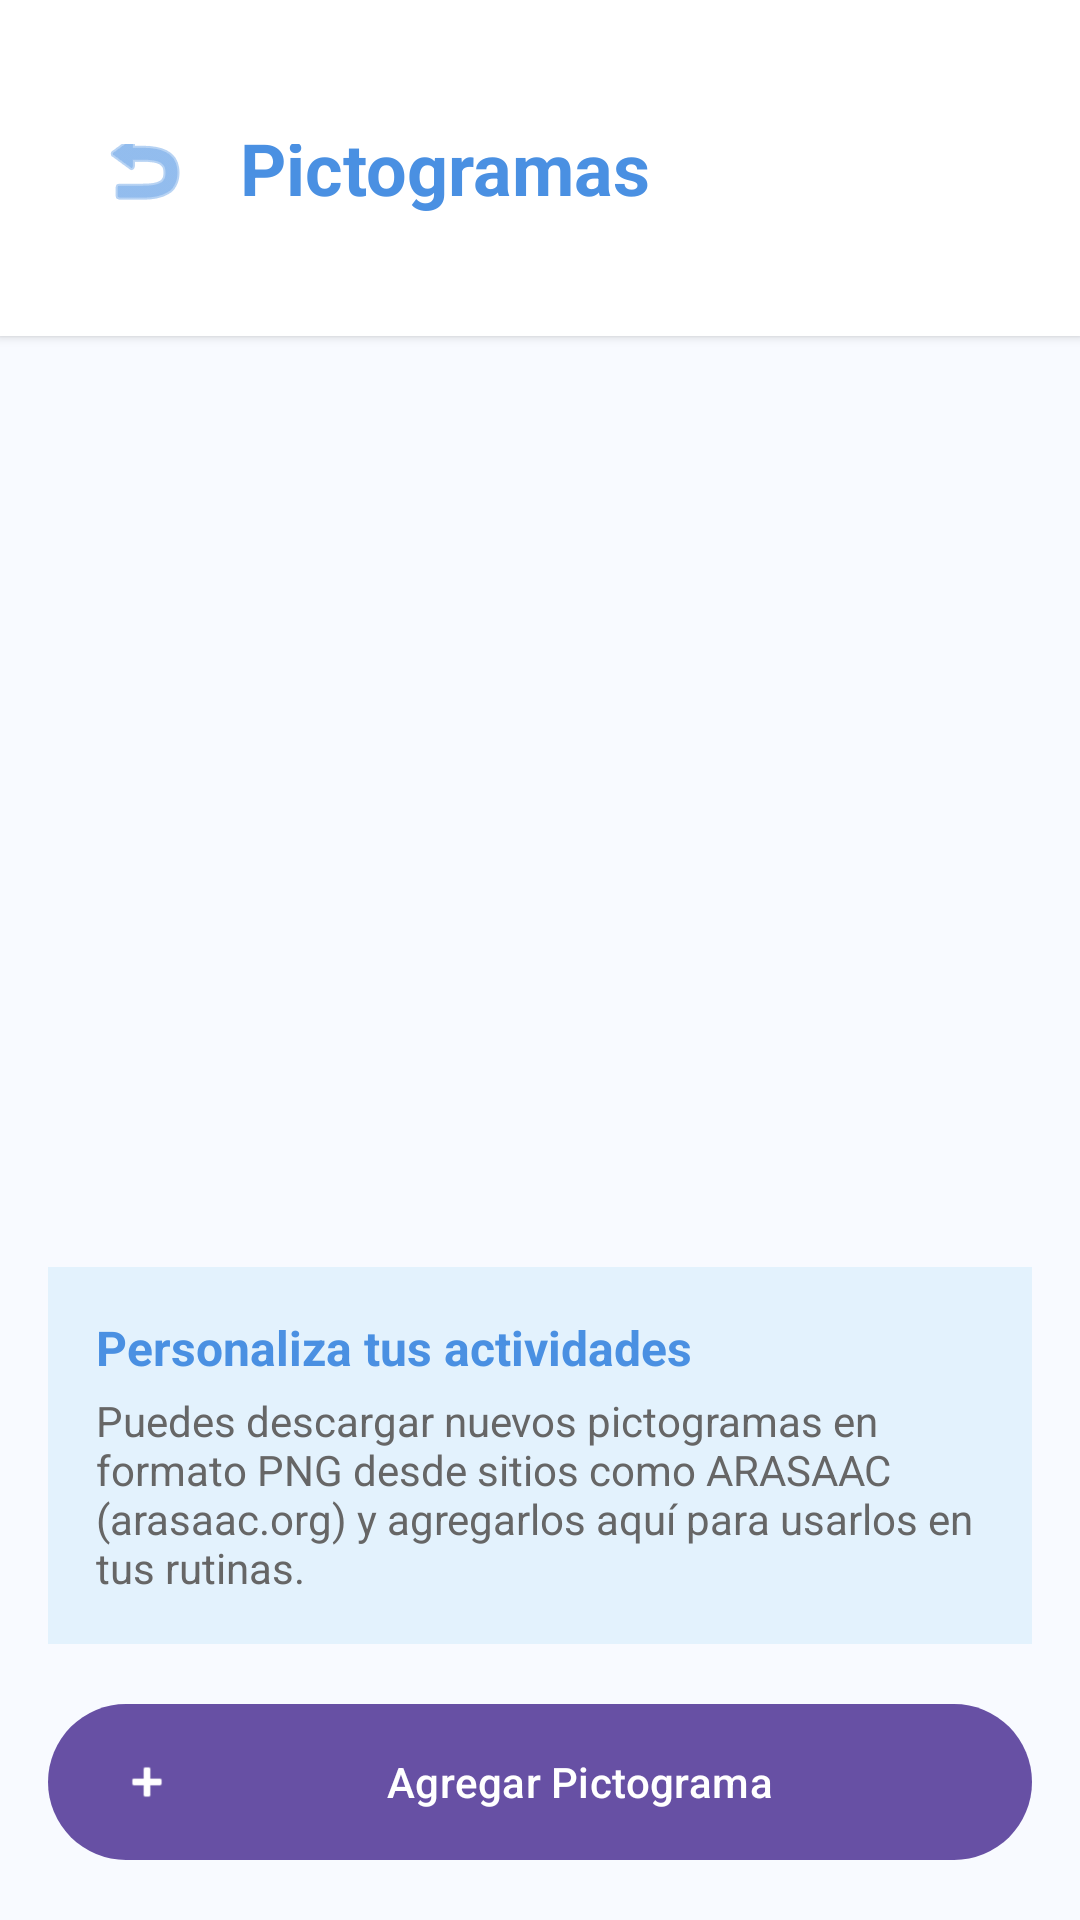

Screen size 1080w x 1920h. Icon name, then its box in pixels as bbox=(x1, y1, x2, y2):
revert: bbox=(111, 144, 180, 200)
